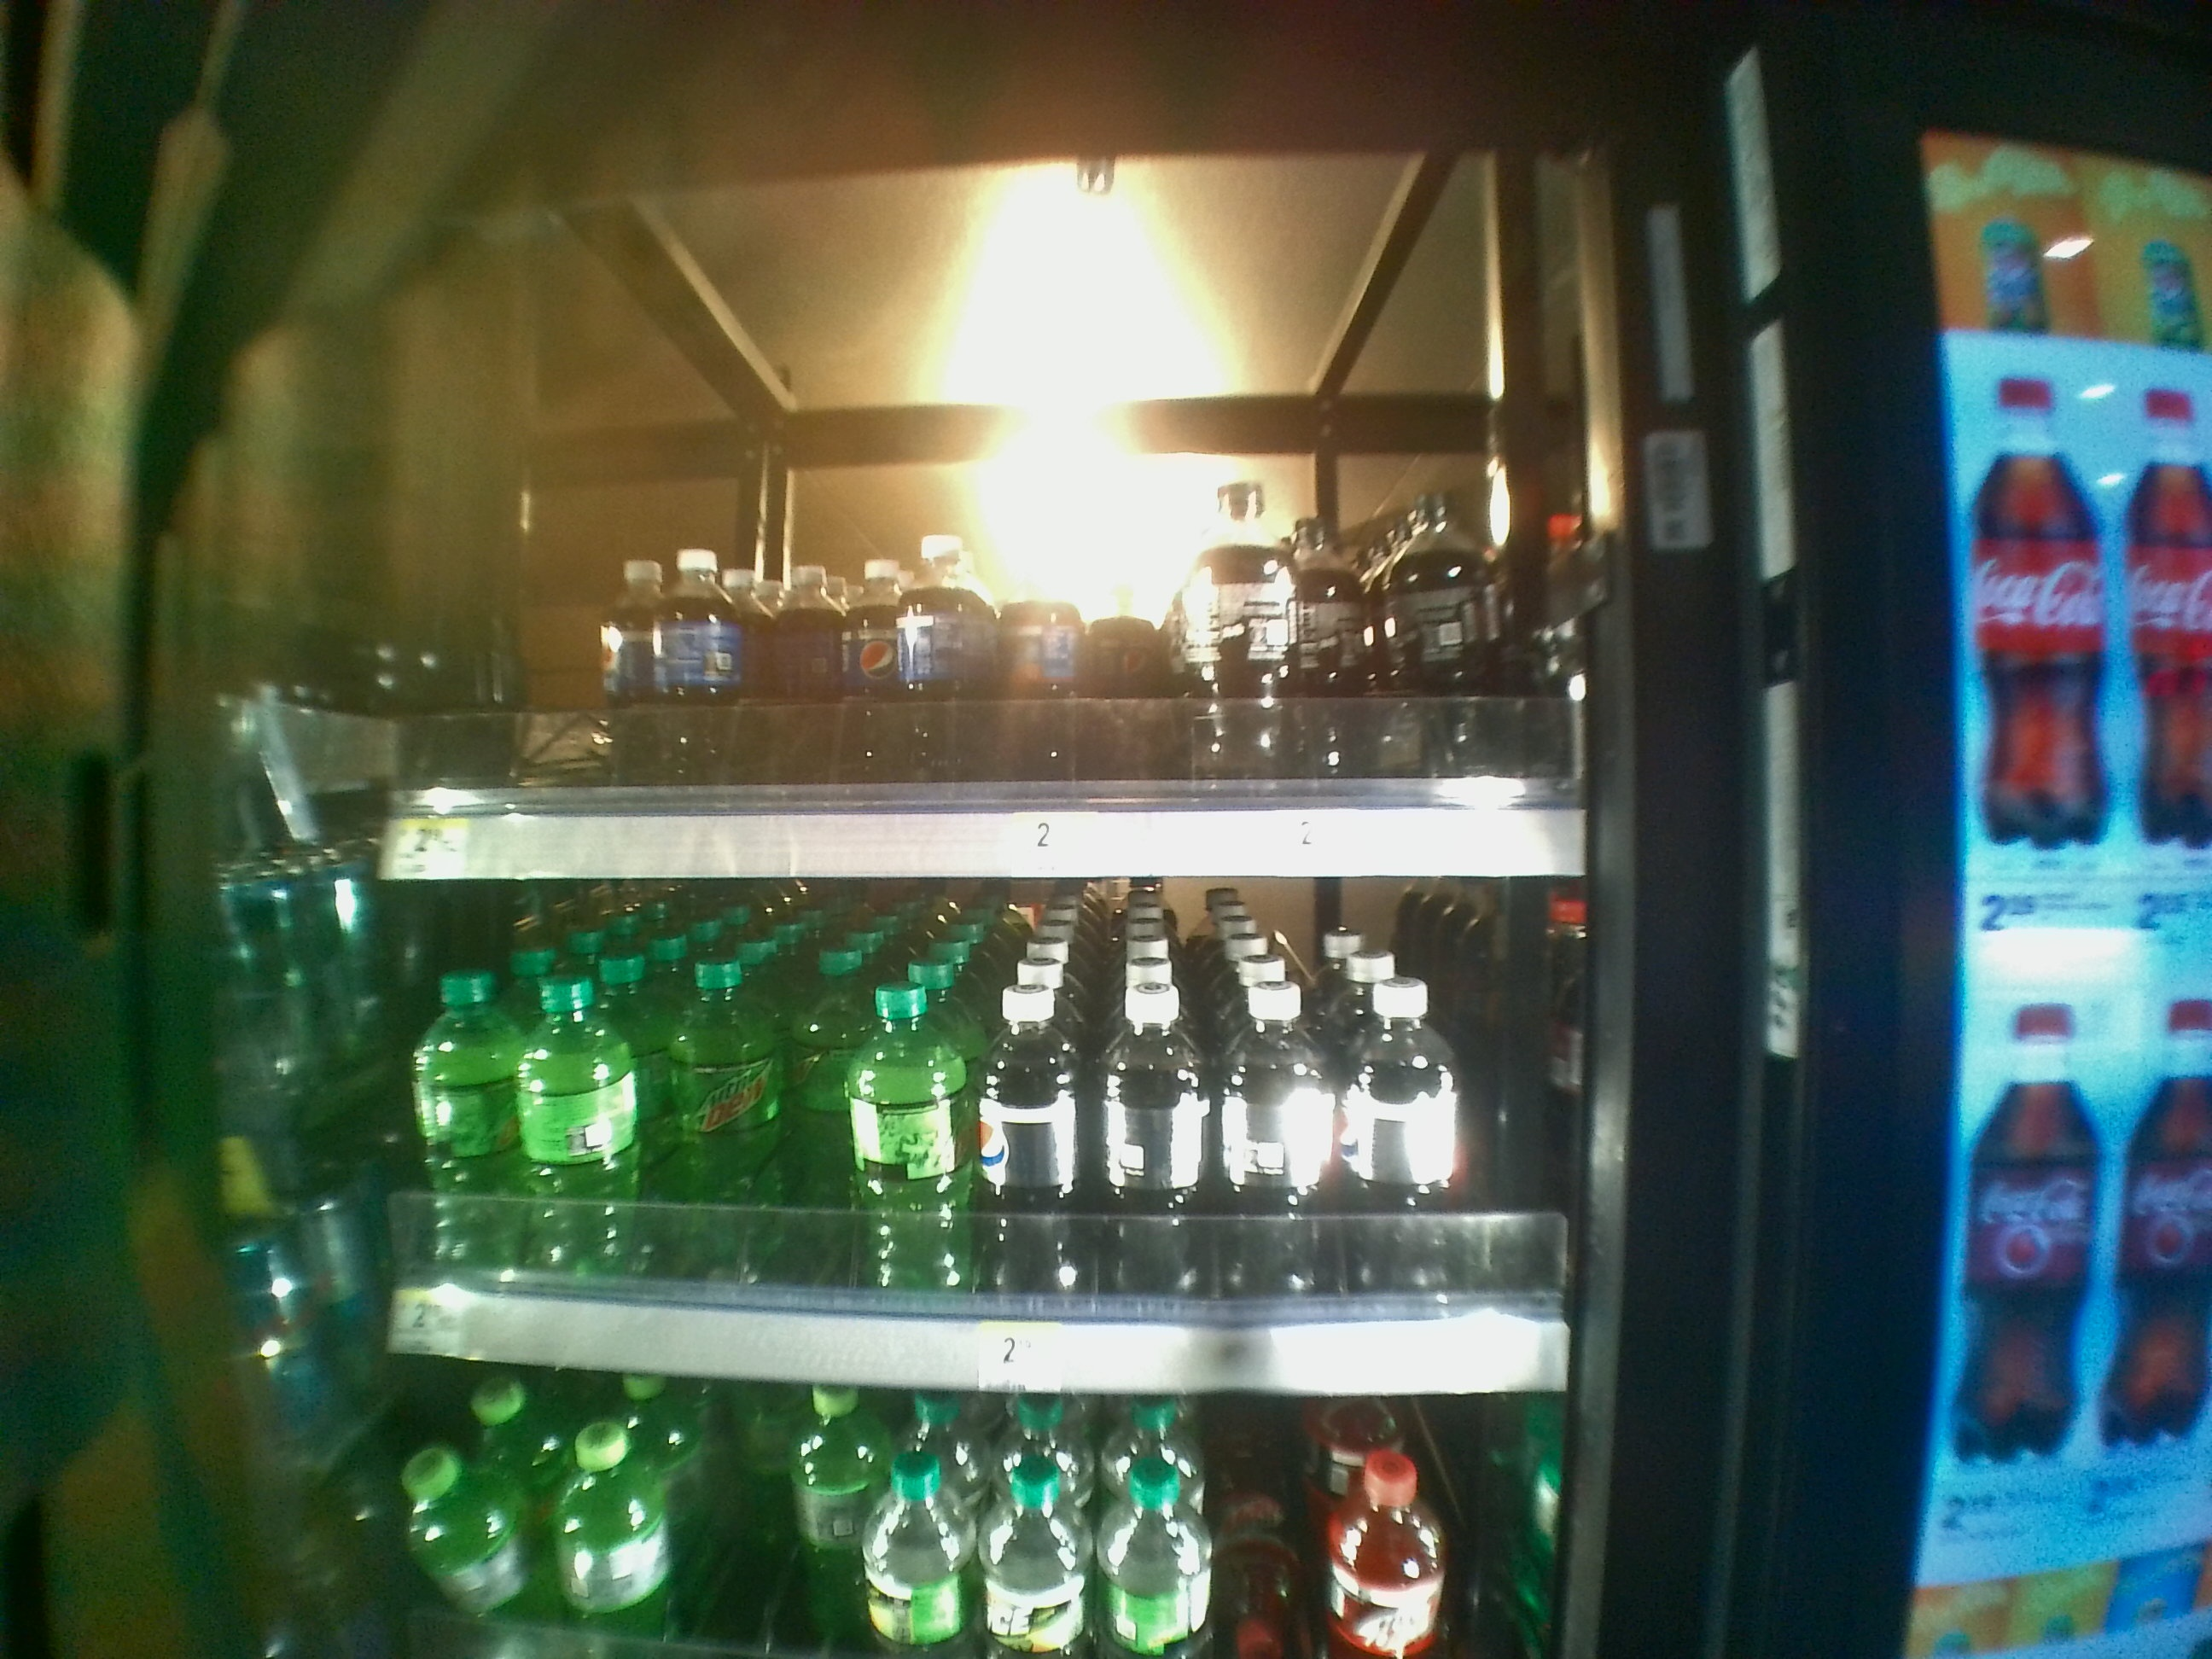shelf: (303, 146, 1595, 875), (369, 880, 1581, 1391)
